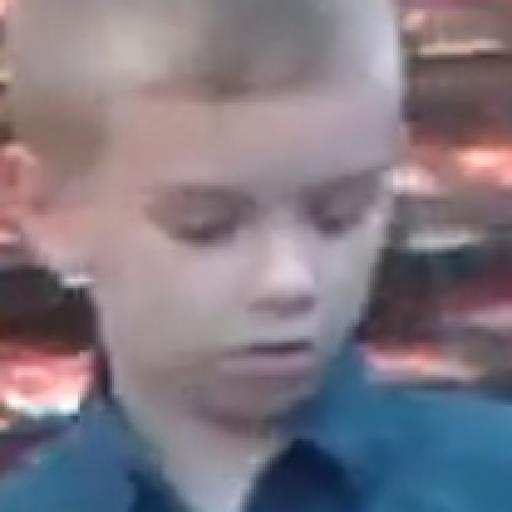Autism: (28, 9, 439, 487)
